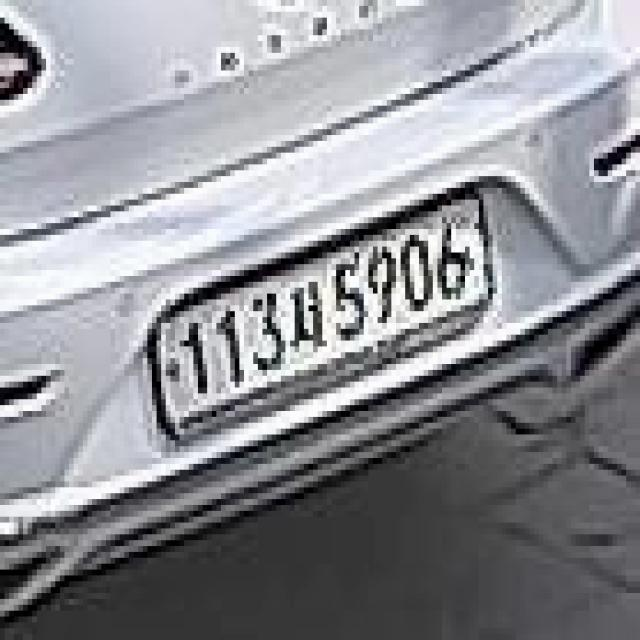illegal_plate: (149, 189, 500, 449)
